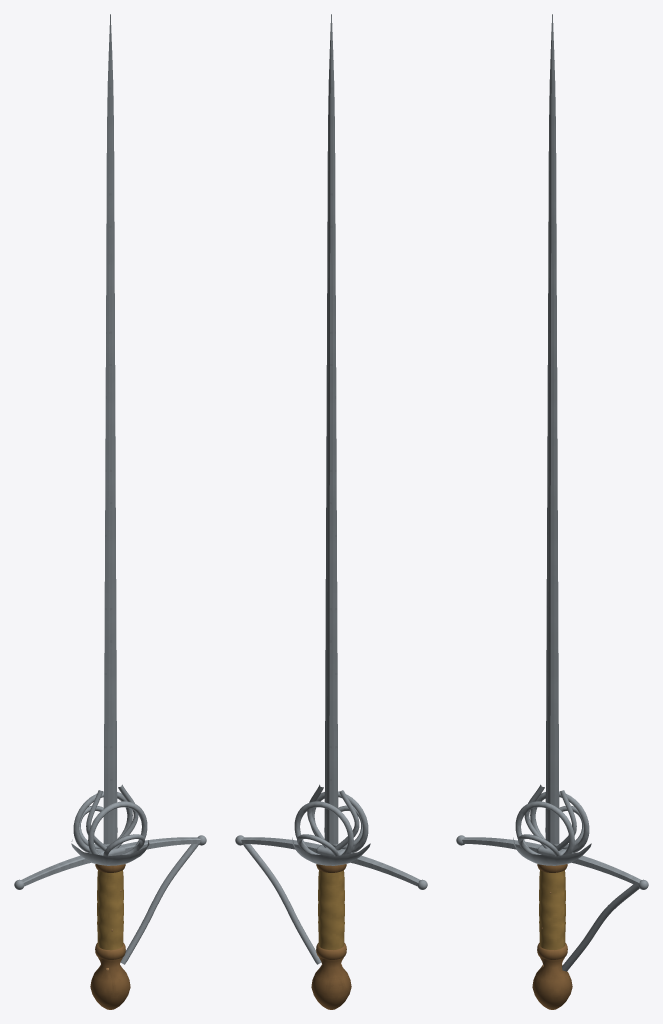
File: rapier.lod1.glb
3 renders of one model, left to right at view 1: azimuth 30°, elevation 25°; view 2: azimuth 150°, elevation 25°; view 3: azimuth 330°, elevation 25°, orthographic.
Parts seen in each view (by area): view 1: steel / forged blade steel, bronze / cast bronze with patina, brass / polished brass furniture; view 2: steel / forged blade steel, bronze / cast bronze with patina, brass / polished brass furniture; view 3: steel / forged blade steel, brass / polished brass furniture, bronze / cast bronze with patina.
Boxes of the visible parts, box(x1,y1,x2,y2) form: steel / forged blade steel: box(14, 14, 206, 964); bronze / cast bronze with patina: box(90, 864, 130, 1009); brass / polished brass furniture: box(97, 870, 123, 950); steel / forged blade steel: box(235, 14, 427, 964); bronze / cast bronze with patina: box(311, 864, 351, 1009); brass / polished brass furniture: box(318, 870, 344, 950); steel / forged blade steel: box(456, 14, 648, 971); brass / polished brass furniture: box(539, 870, 565, 950); bronze / cast bronze with patina: box(532, 864, 572, 1009).
Bounding box in the file's own units: 0.2412 × 1.2 × 0.091.
4 materials, 3 textured.
